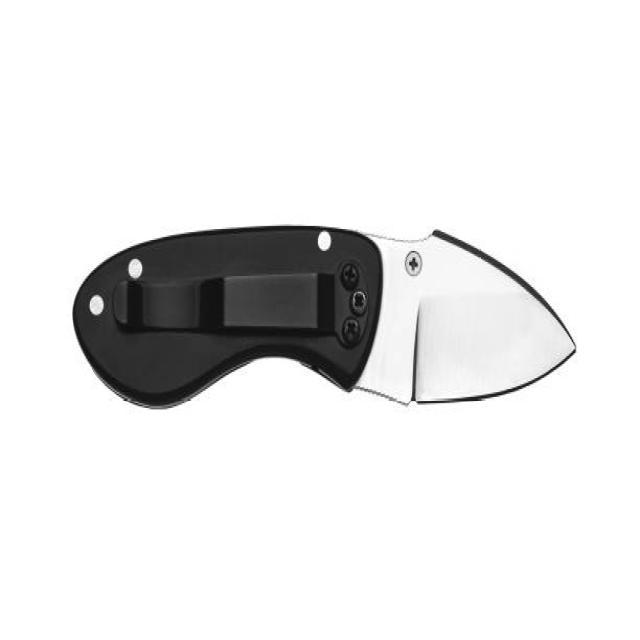knife: (60, 212, 590, 432)
